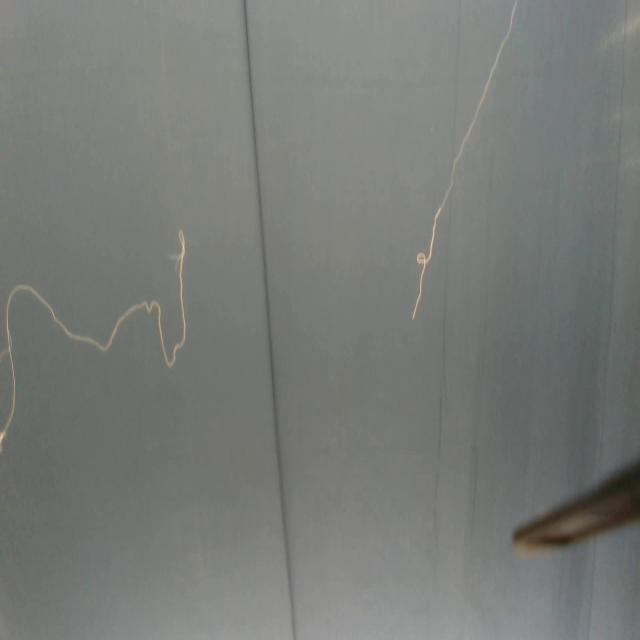crease: (243, 0, 297, 639)
